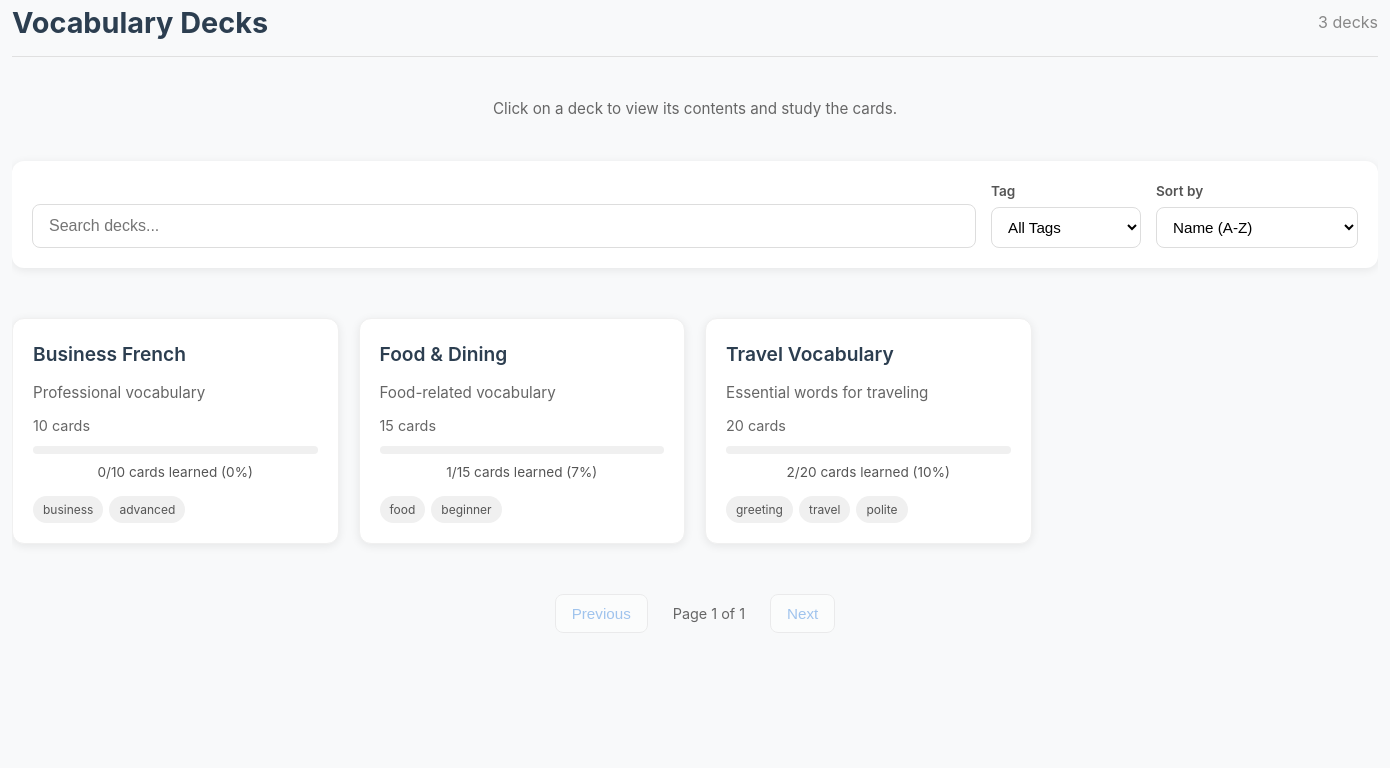
Test: DeckBrowser › Search Functionality (AC5) › filters decks by search query
Expected: the button with test id "deck-card-1" is shown, [705,318,1032,544]
Expected: the button with test id "deck-card-2" is shown, [358,318,685,544]
Search for "Travel"
Type "Travel" into the field with test id "deck-search-input" at (504, 226), box [32,204,976,248]
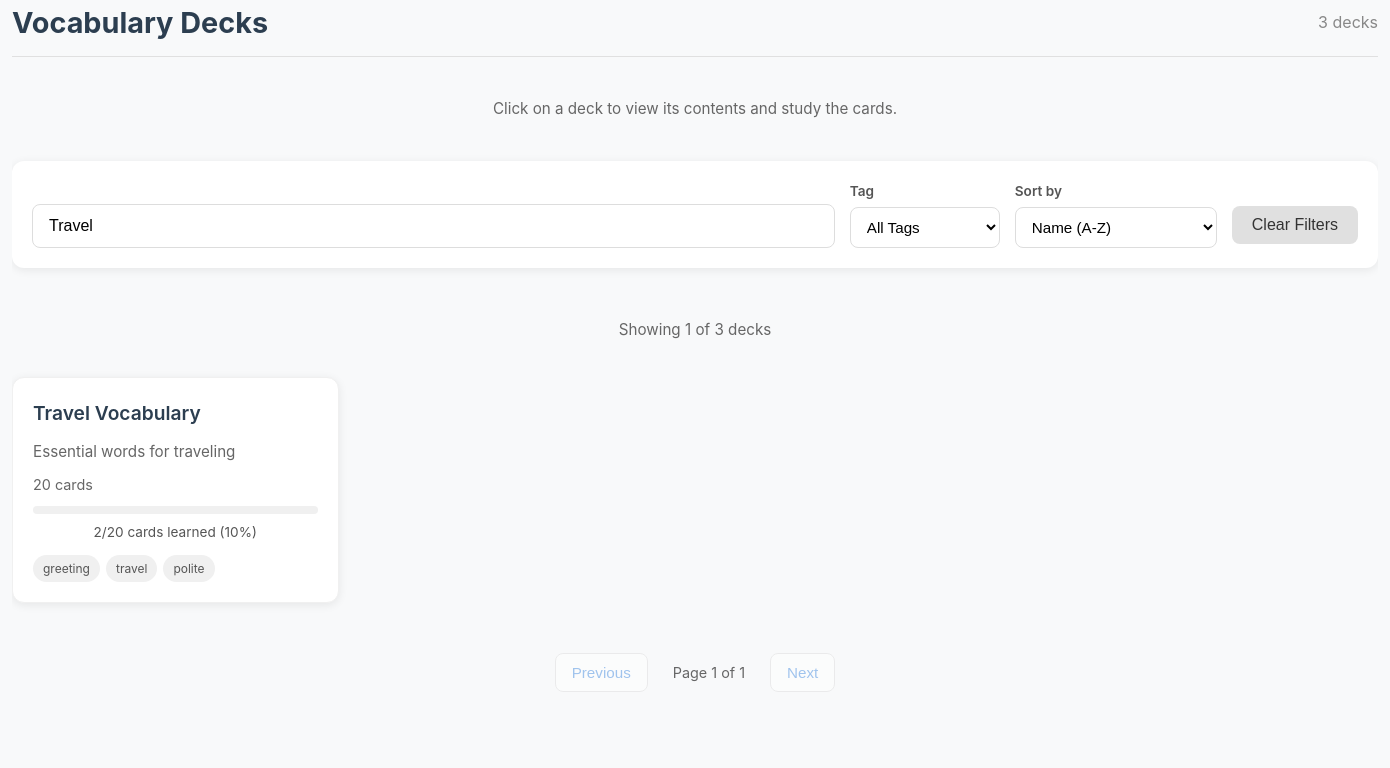
Expected: the button with test id "deck-card-1" is shown, [12,377,338,603]
Result: the button with test id "deck-card-2" is gone
Result: the button with test id "deck-card-3" is gone
